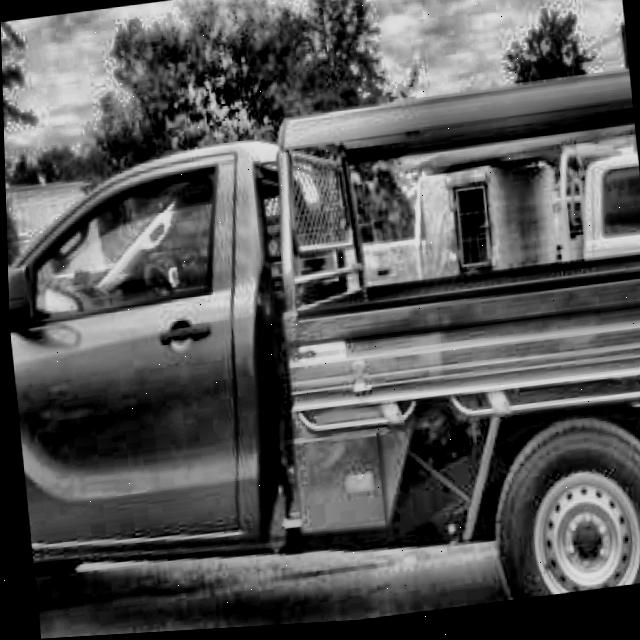light_vehicle: (2, 65, 640, 640)
